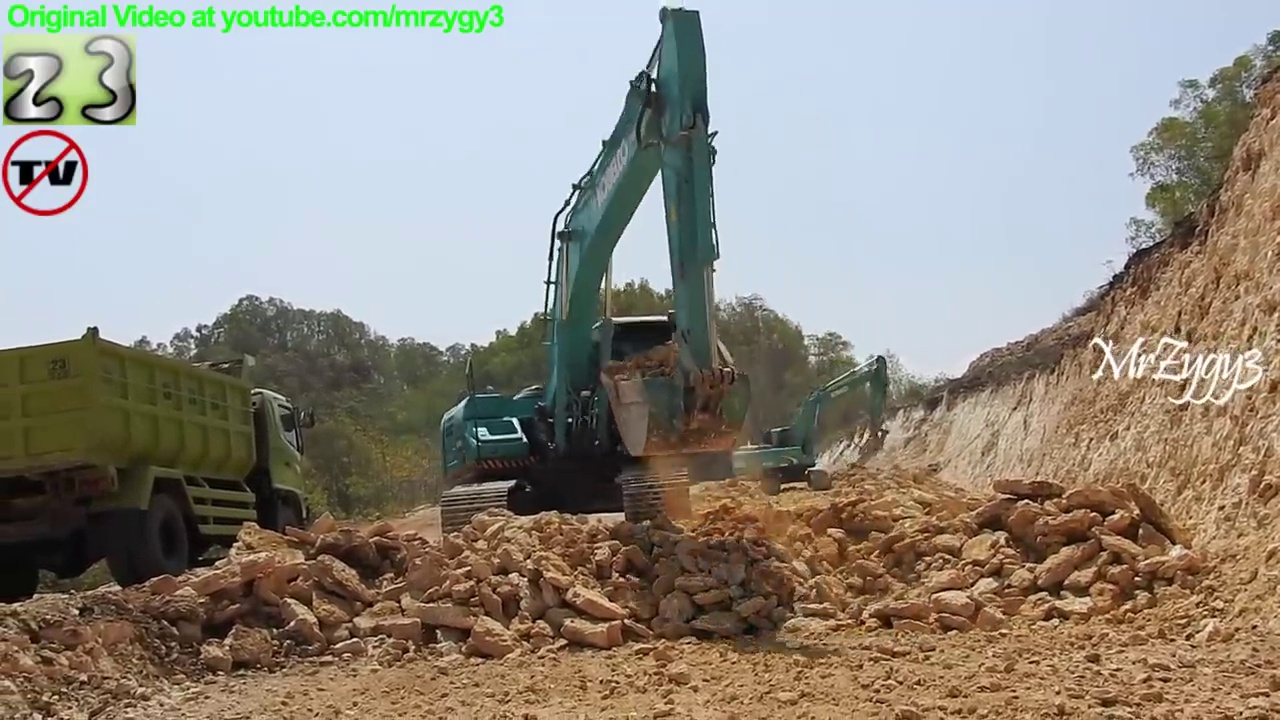excavator breaker: (724, 350, 893, 498)
truck: (430, 3, 760, 575), (1, 319, 326, 612)
